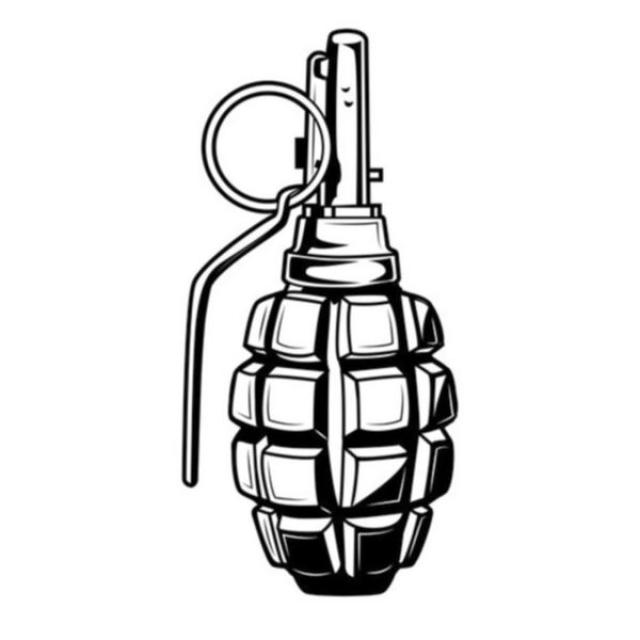grenade: (184, 29, 459, 599)
